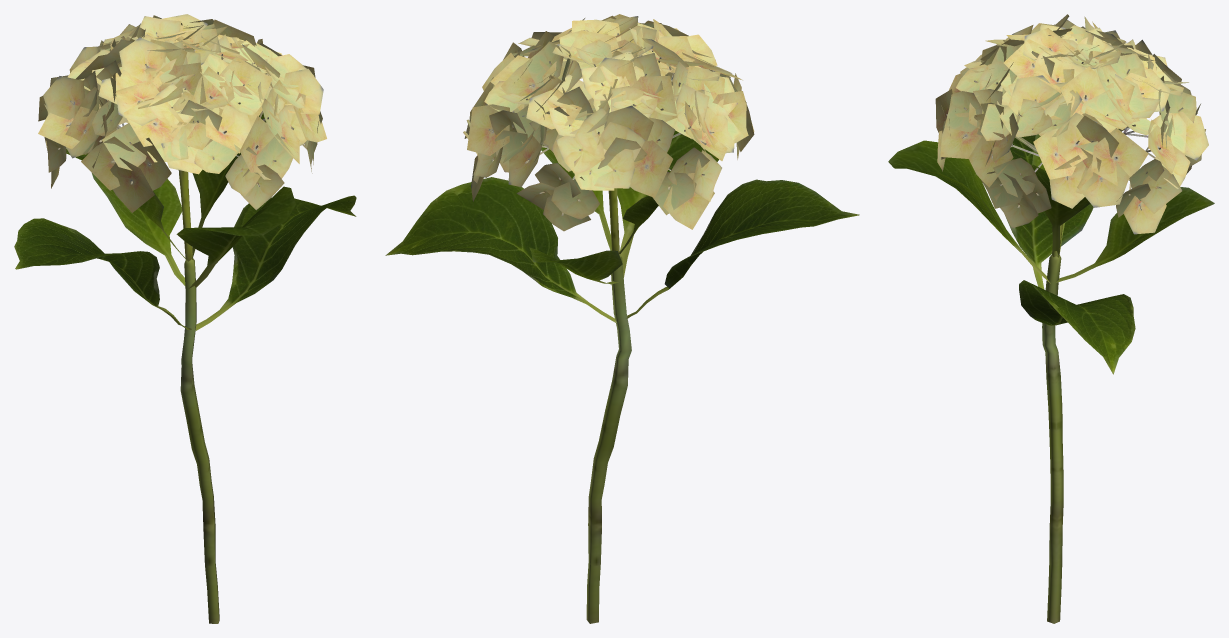
File: Hydrangea OG SHORT YELLOW PINK.glb
The picture shows the model from 3 angles, left to right: view 1: azimuth 30°, elevation 25°; view 2: azimuth 150°, elevation 25°; view 3: azimuth 270°, elevation 25°; orthographic projection. The views are drawn at different scales.
Parts seen in each view (by area): view 1: Hydrangea; view 2: Hydrangea; view 3: Hydrangea.
Part boxes in pixels (box(x1,y1,x2,y2)): Hydrangea: box(14, 14, 356, 623); Hydrangea: box(385, 14, 859, 623); Hydrangea: box(888, 14, 1214, 623).
Size of the model in its own units: 1.38 by 1.94 by 1.
1 material, 1 textured.
